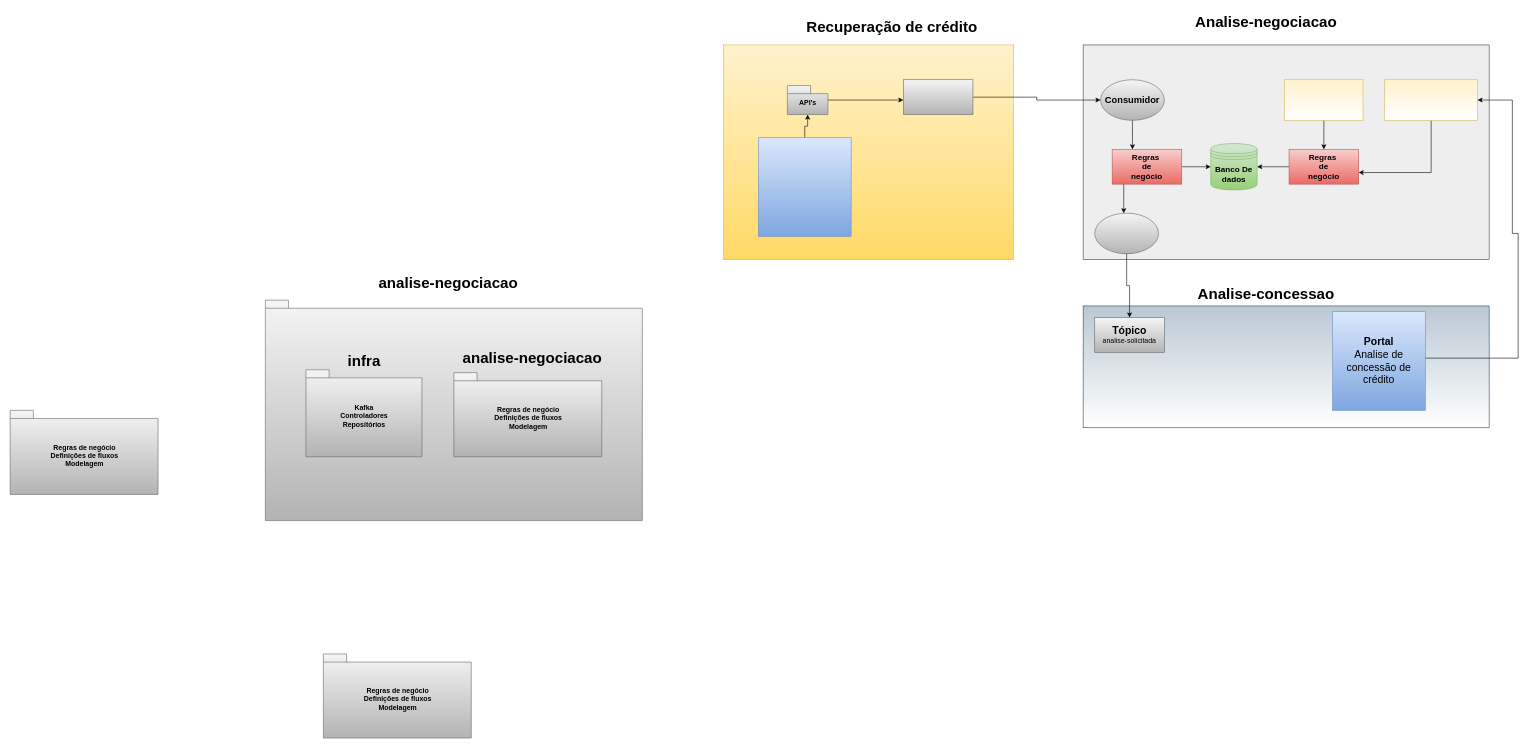
This 1533x748 diagram has some shape labels left out. Here are the shapes that lost their labels. From the top down, the centre of each, then its label:
At (938,97): "Tópico Negociacoes".
At (1323,99): "API Rest /negociacoes-em-analise".
At (1431,99): "API Rest /resumo-negociacoes".
At (804,186): "Portal Negociações".
At (1126,233): "Publicador".
